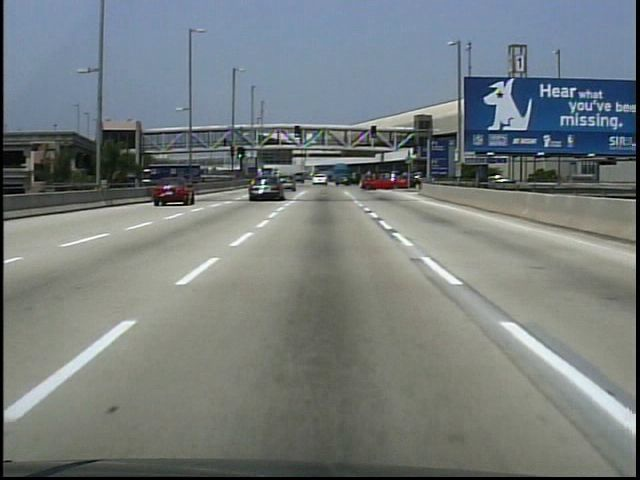person: (222, 137, 228, 149)
